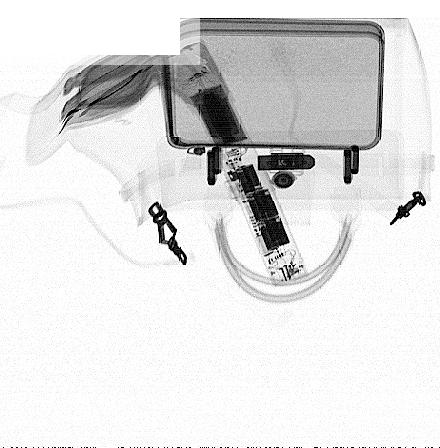Baton: (163, 42, 309, 287)
